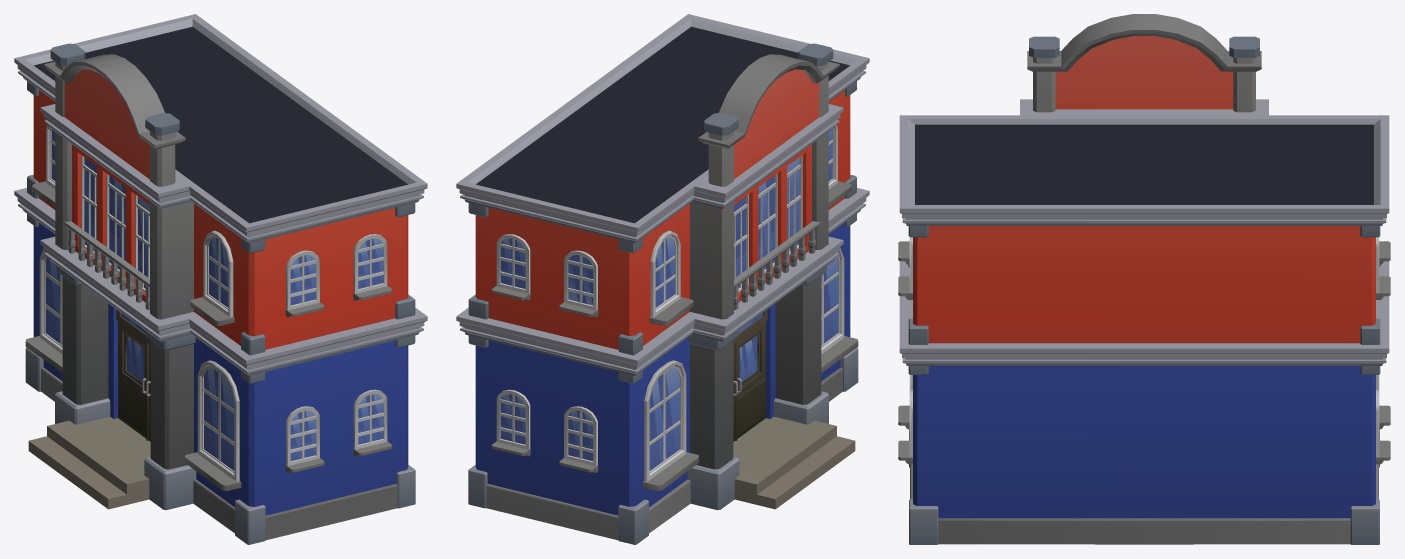
File: Building_24_D.fbx
3 views of the same model, side by side, from view 1: azimuth 30°, elevation 25°; view 2: azimuth 150°, elevation 25°; view 3: azimuth 270°, elevation 25° (orthographic). The views are drawn at different scales.
Visible parts, largest first — view 1: Building_24_D; view 2: Building_24_D; view 3: Building_24_D.
Boxes of the visible parts, x1,y1,x2,y2 form: Building_24_D: (14, 14, 427, 544); Building_24_D: (456, 14, 869, 544); Building_24_D: (898, 14, 1390, 544).
Size of the model in its own units: 535 by 847 by 888.
